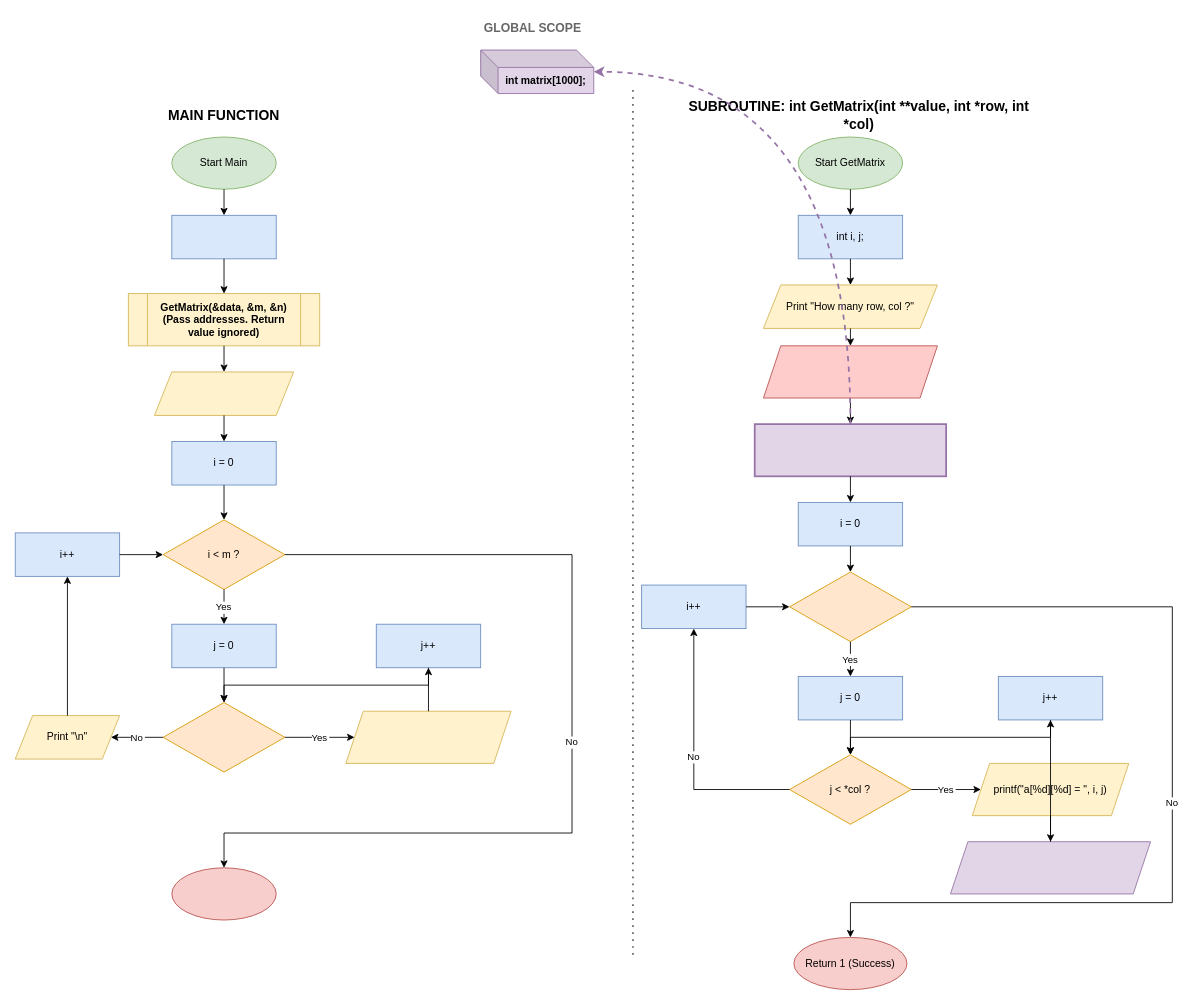
This 1195x1005 diagram has some shape labels left out. Here are the shapes that lost their labels. From the top down, the centre of each, then its label:
point (223, 236): int *data, m, n; int i, j;
point (850, 371): scanf("%d %d", row, col) (Modifies 'm' and 'n' in Main)
point (224, 393): Print "\nMatrix:\n"
point (850, 450): *value = matrix; (Makes 'data' in Main point to Global matrix)
point (850, 606): i < *row ?
point (223, 737): j < n ?
point (428, 736): printf("%d ", data[i*n + j]) (Access via pointer 'data')
point (1050, 867): scanf("%d", &matrix[i * (*col) + j]) (Populates GLOBAL matrix)
point (223, 893): End Main / Return 0
